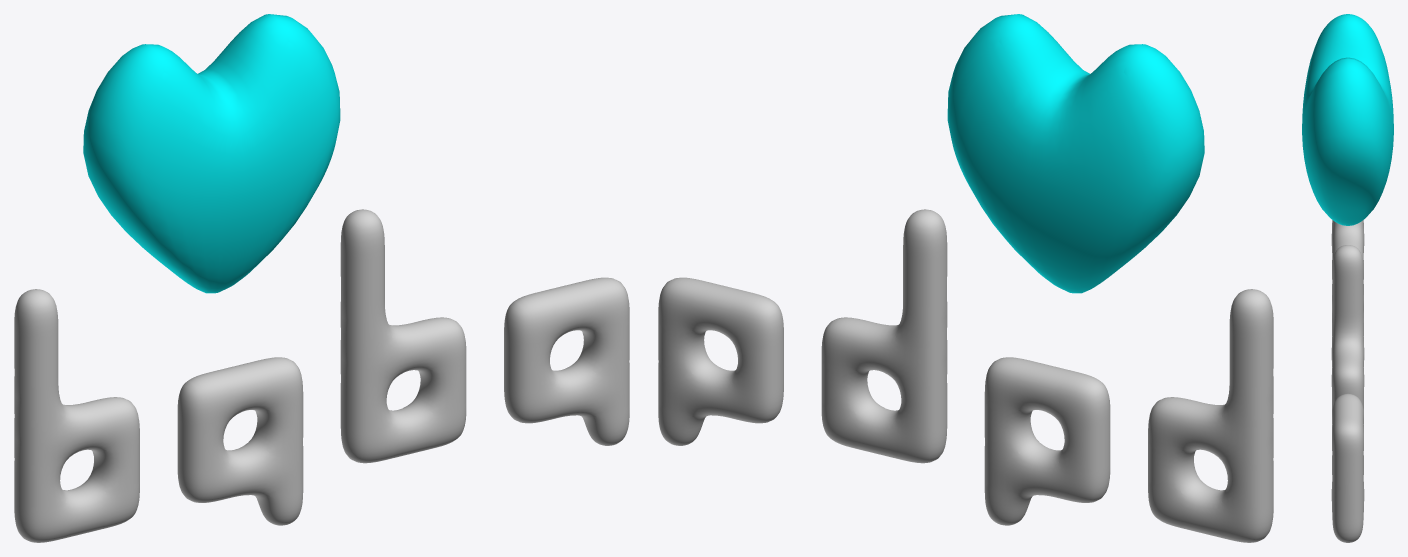
Rendered from baba.gltf.
3 renders of one model, left to right at view 1: azimuth 30°, elevation 25°; view 2: azimuth 150°, elevation 25°; view 3: azimuth 270°, elevation 25°, orthographic. The views are drawn at different scales.
Visible parts, largest first — view 1: Object_5, Object_4, Object_1, Object_2, Object_3; view 2: Object_5, Object_4, Object_1, Object_2, Object_3; view 3: Object_5, Object_4, Object_3, Object_1.
Boxes of the visible parts, x1,y1,x2,y2 form: Object_5: (83,14,340,293); Object_4: (340,209,466,463); Object_1: (14,289,139,542); Object_2: (177,357,303,525); Object_3: (504,277,629,445); Object_5: (947,14,1204,293); Object_4: (821,209,947,463); Object_1: (1148,289,1273,542); Object_2: (984,357,1110,525); Object_3: (658,277,783,445); Object_5: (1302,14,1393,225); Object_4: (1331,245,1364,430); Object_3: (1331,393,1364,542); Object_1: (1331,220,1364,316).
Size of the model in its own units: 244 by 195 by 44.52.
